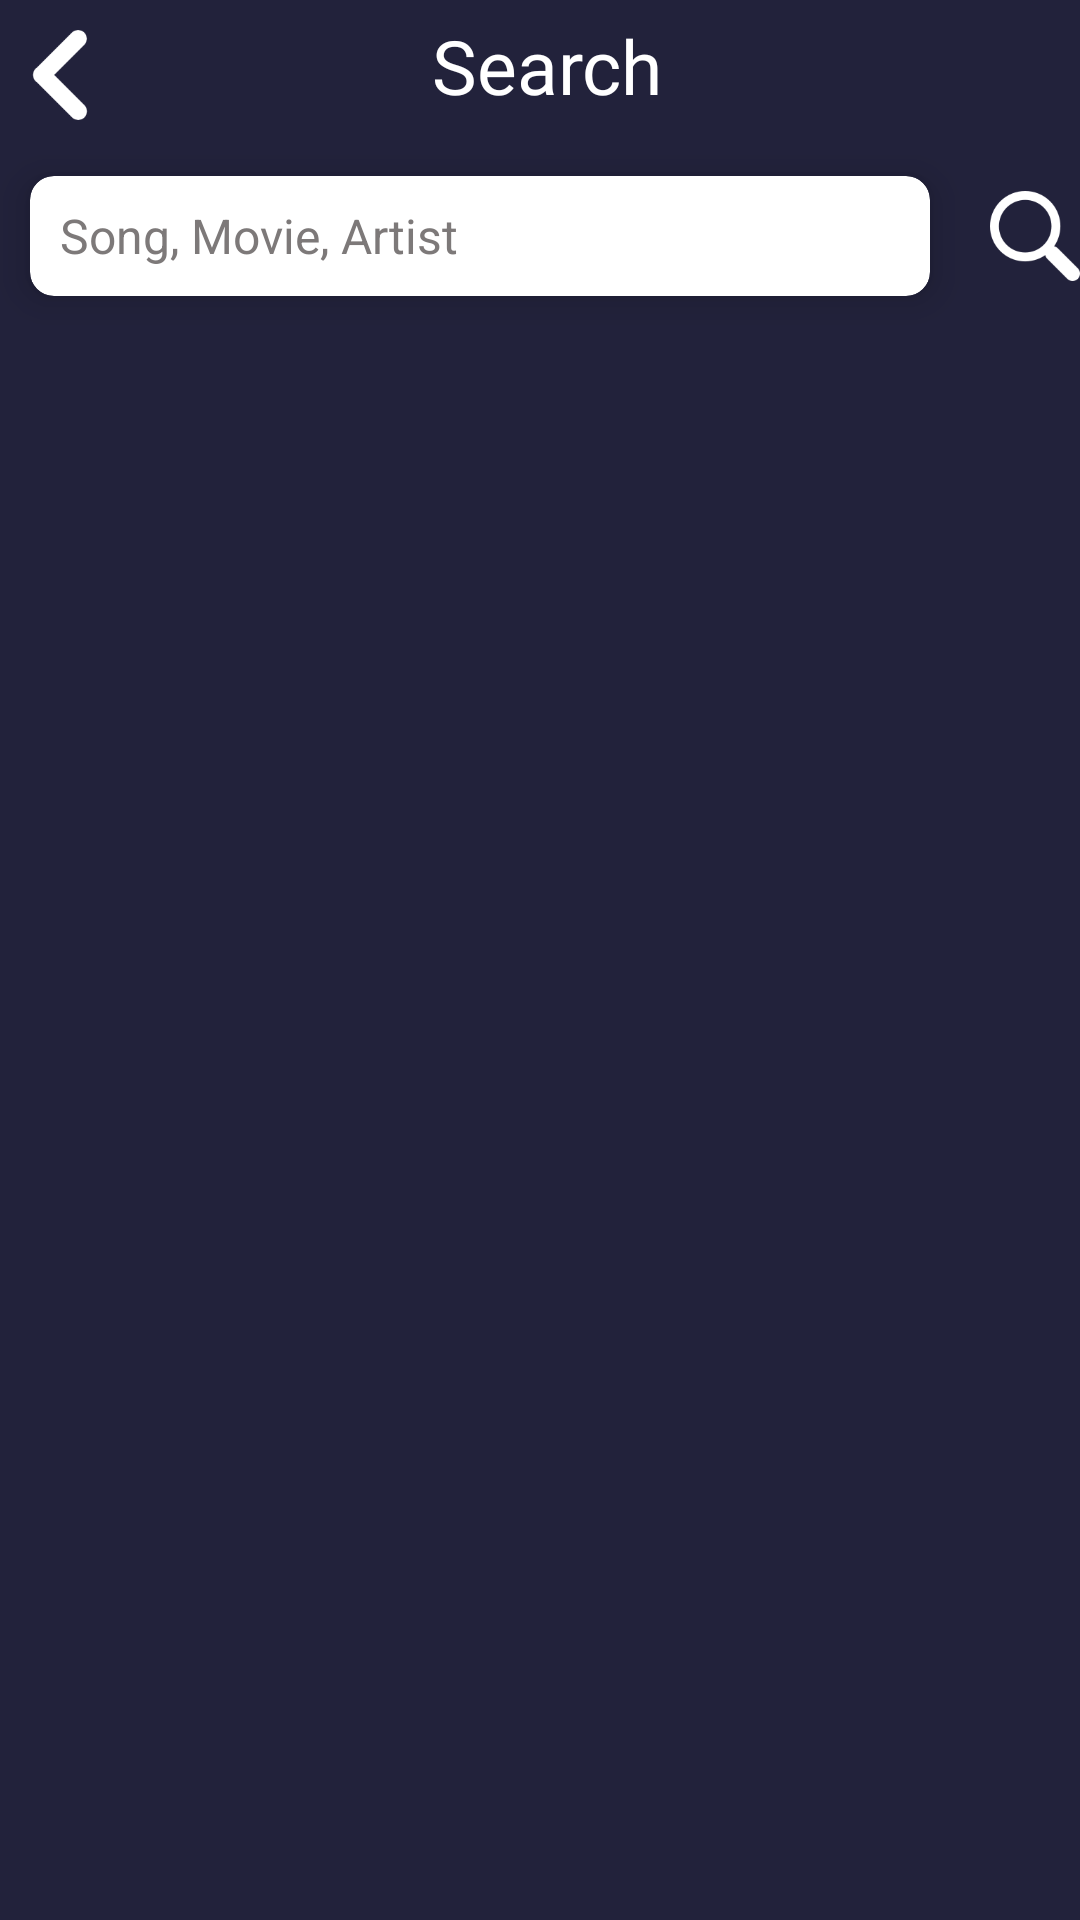

Point at icon controls on the screen. Image size 1080w x 1920h, points as [x,y].
back: [60,75]
search: [1035,236]
